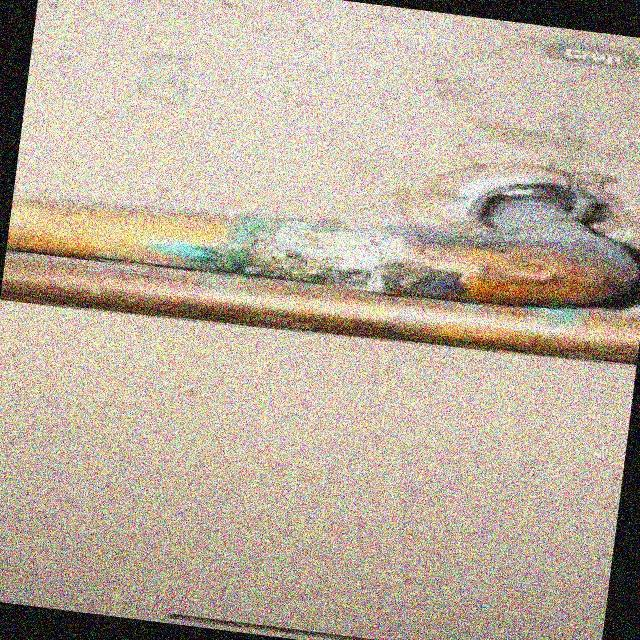rust: (0, 166, 639, 384)
